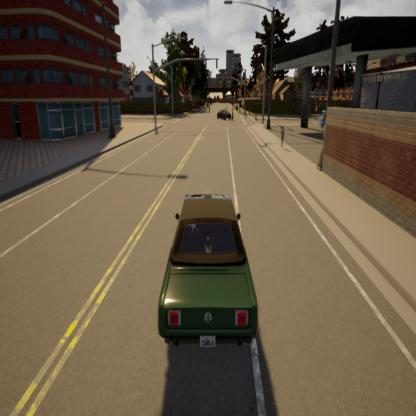Cars: (145, 178, 273, 367), (211, 103, 234, 127)
Pedestrian: (278, 118, 288, 157), (229, 99, 240, 126)
